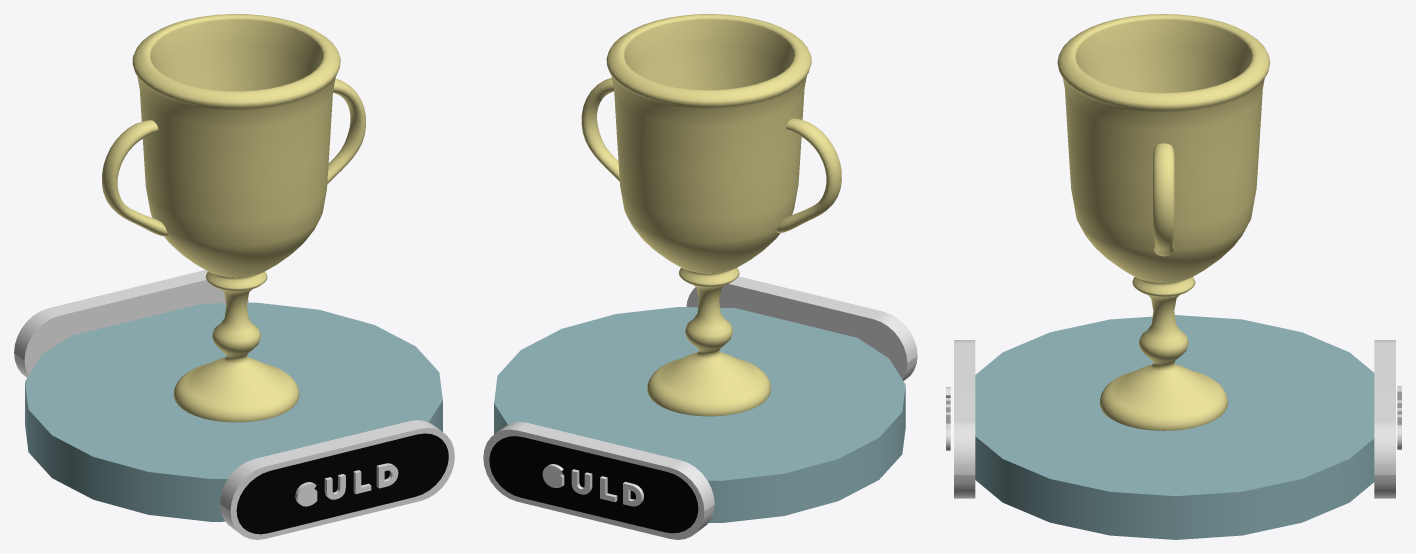
Rendered from trophey_objectgeo.fbx.
The picture shows the model from 3 angles, left to right: view 1: azimuth 30°, elevation 25°; view 2: azimuth 150°, elevation 25°; view 3: azimuth 270°, elevation 25°; orthographic projection. The views are drawn at different scales.
Visible parts, largest first — view 1: trophy_geo, bananabase_geo1, plaquecolor_geo2, plaquecolor_geo3, guldText_geo; view 2: trophy_geo, bananabase_geo1, plaquecolor_geo3, plaquecolor_geo2, guldText_geo1; view 3: bananabase_geo1, trophy_geo, plaquecolor_geo2, plaquecolor_geo3.
Part boxes in pixels (x1=…): trophy_geo: x1=102, y1=14, x2=365, y2=422; bananabase_geo1: x1=25, y1=302, x2=442, y2=521; plaquecolor_geo2: x1=220, y1=420, x2=454, y2=539; plaquecolor_geo3: x1=14, y1=270, x2=248, y2=377; guldText_geo: x1=295, y1=463, x2=398, y2=506; trophy_geo: x1=581, y1=14, x2=841, y2=416; bananabase_geo1: x1=494, y1=307, x2=905, y2=522; plaquecolor_geo3: x1=483, y1=422, x2=714, y2=539; plaquecolor_geo2: x1=686, y1=276, x2=917, y2=380; guldText_geo1: x1=542, y1=464, x2=643, y2=506; bananabase_geo1: x1=975, y1=315, x2=1374, y2=539; trophy_geo: x1=1057, y1=14, x2=1270, y2=430; plaquecolor_geo2: x1=954, y1=340, x2=975, y2=498; plaquecolor_geo3: x1=1374, y1=340, x2=1395, y2=498.
Size of the model in its own units: 18.1 by 18.65 by 19.25.
